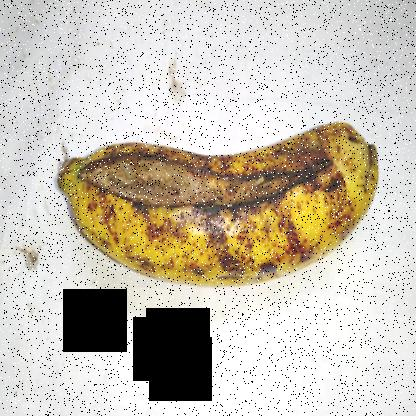rotten: (63, 125, 322, 235)
